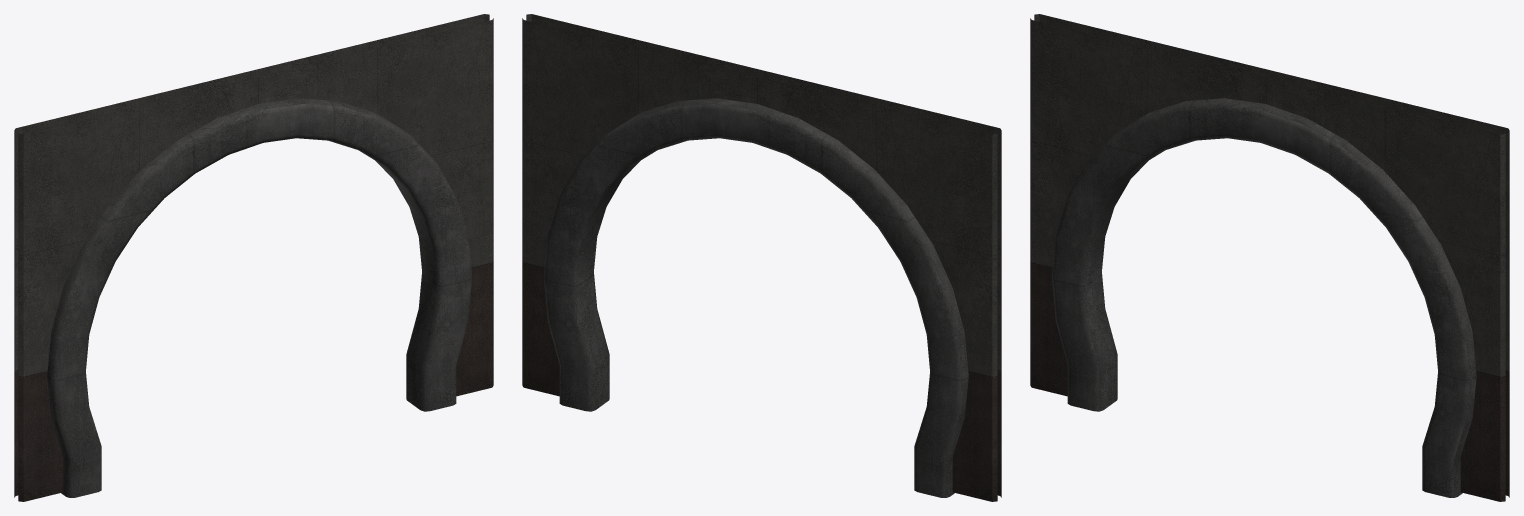
The model's file is tunnel_hole_2.glb.
The picture shows the model from 3 angles, left to right: view 1: azimuth 30°, elevation 25°; view 2: azimuth 150°, elevation 25°; view 3: azimuth 330°, elevation 25°; orthographic projection.
Visible parts, largest first — view 1: tunnel_hole_2; view 2: tunnel_hole_2; view 3: tunnel_hole_2.
Boxes of the visible parts, x1=… form: tunnel_hole_2: x1=14, y1=14, x2=493, y2=501; tunnel_hole_2: x1=522, y1=14, x2=1001, y2=501; tunnel_hole_2: x1=1030, y1=14, x2=1509, y2=501.
Bounding box in the file's own units: 4.06 × 3.02 × 0.3.
2 materials, 2 textured.
